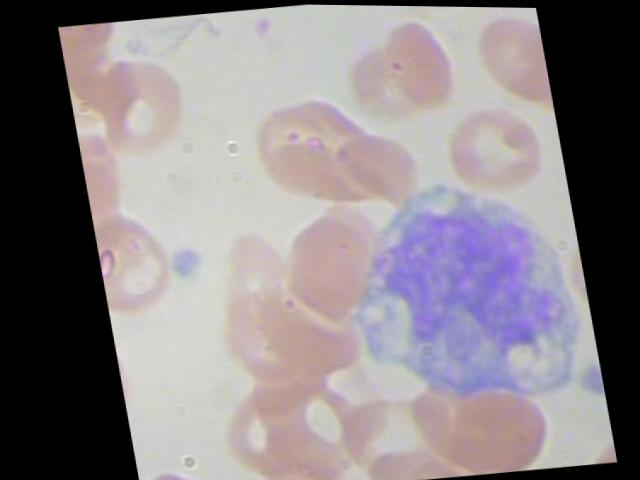Platelets: (163, 239, 208, 289)
Red Blood Cells: (84, 52, 202, 175), (245, 76, 363, 198), (261, 208, 385, 323), (423, 93, 554, 201), (203, 363, 313, 479), (429, 380, 550, 477), (377, 9, 475, 118), (88, 204, 176, 321), (461, 5, 552, 115), (324, 125, 433, 211), (126, 441, 219, 479), (230, 462, 343, 479), (390, 5, 492, 22)
White Blood Cells: (326, 179, 597, 421)
